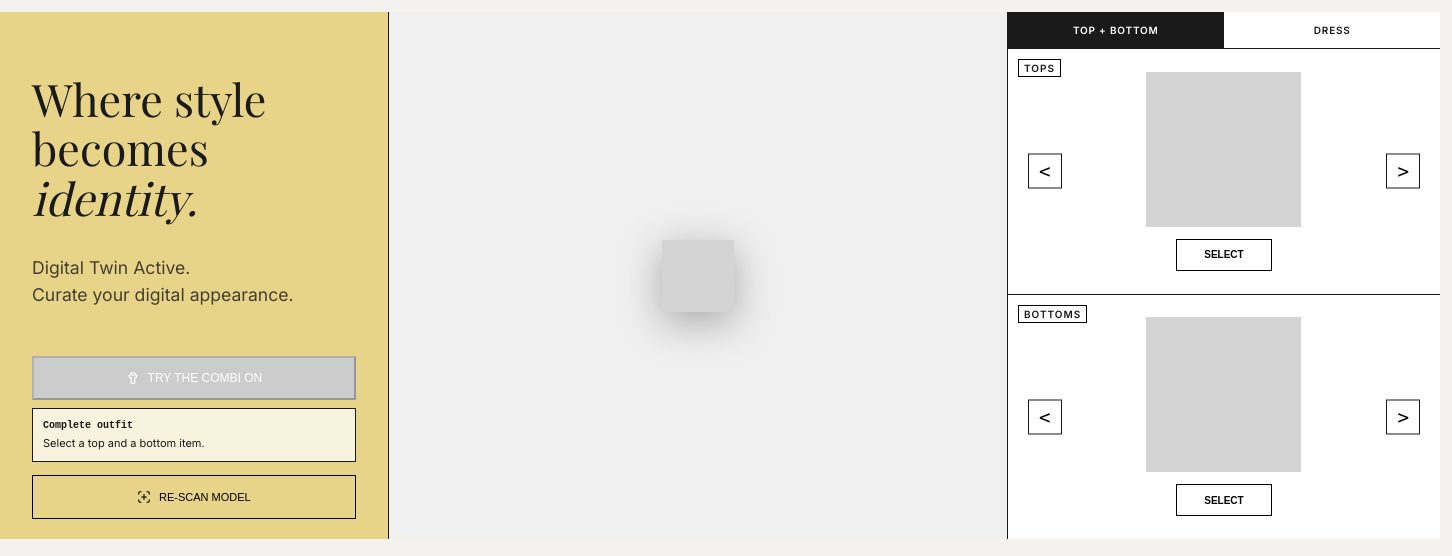
Test: Wardrobe states › enables try-on after model, top, and bottom are selected
Click the button "SELECT" below "TOPS" at (1224, 255), box [1176, 239, 1272, 271]
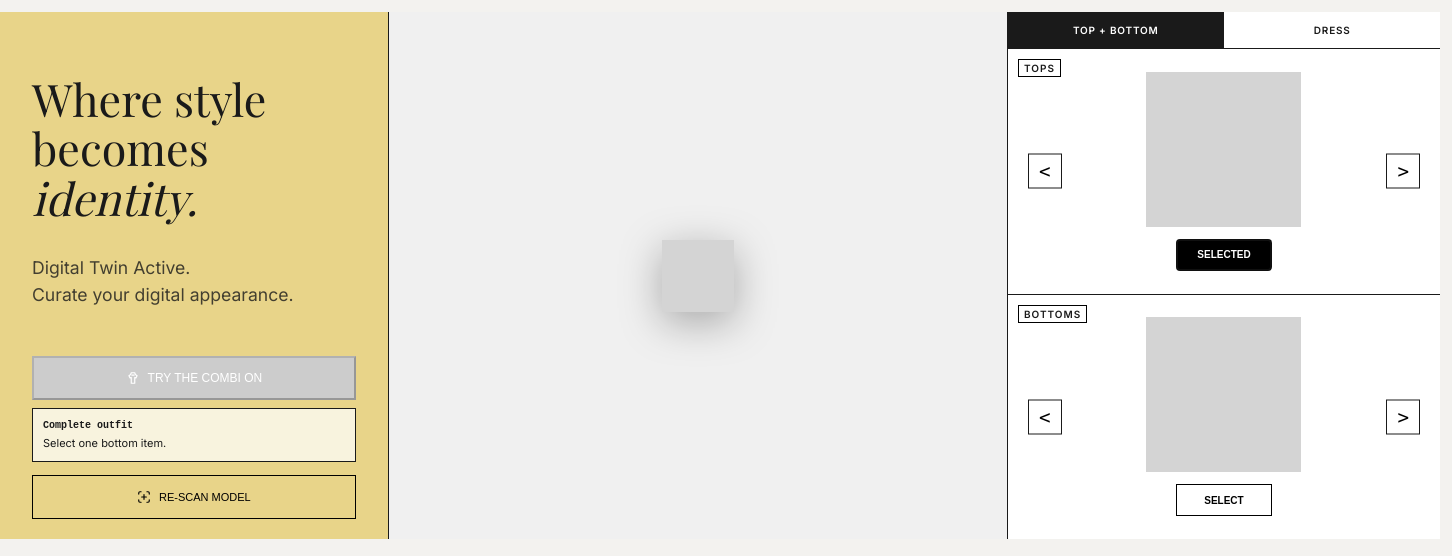
Click the button "SELECT" at (1224, 500), box [1176, 484, 1272, 516]
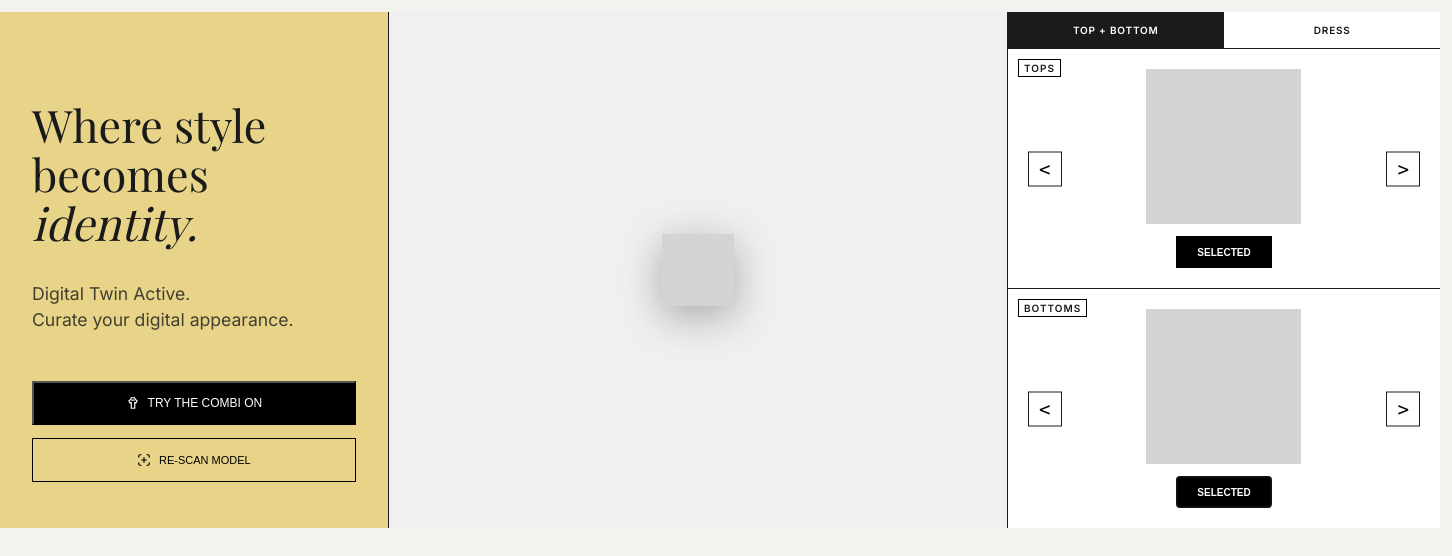
Expected: the button "TRY THE COMBI ON" is enabled, [32, 381, 356, 425]
